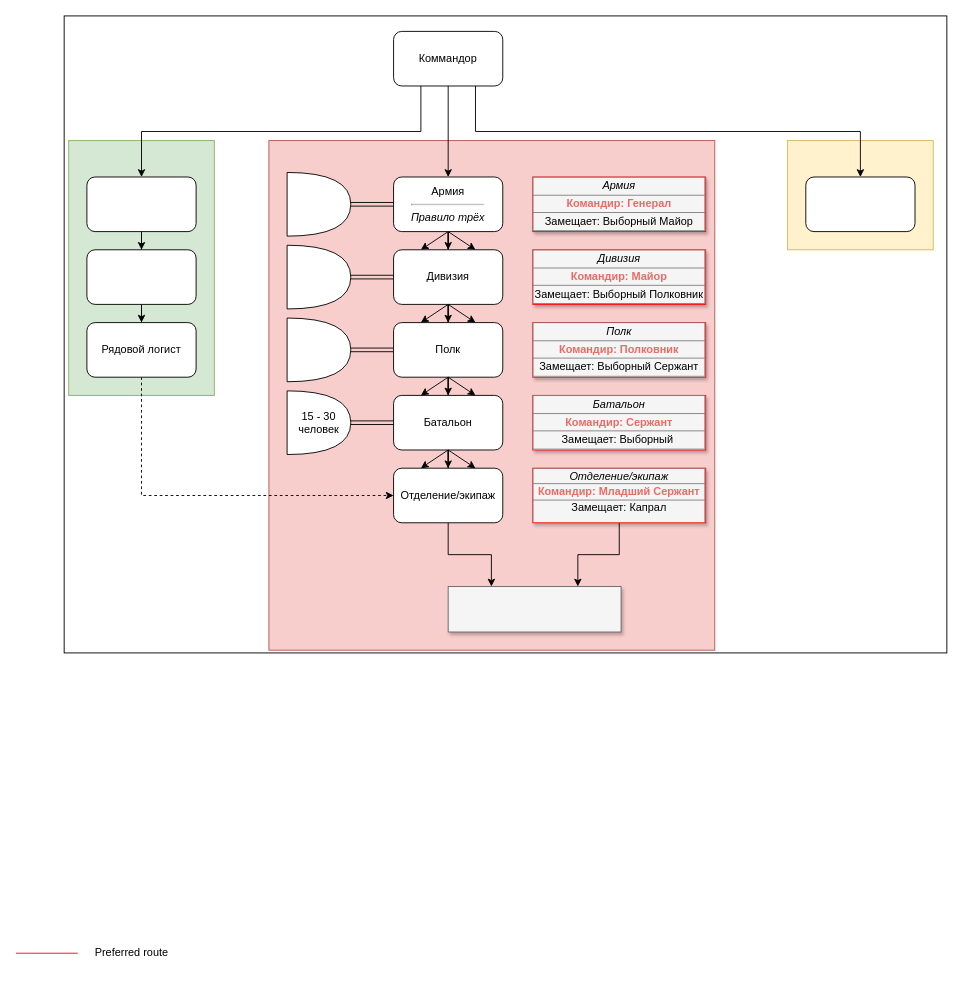
Some shapes in this 963 by 985 pixel diagram are drawn without their labels. Here are the shapes that lost their labels. From the top down, the centre of each, then its label:
At pixel 141 204: "Координатор логистики".
At pixel 318 204: "500 - 1000 человек".
At pixel 860 204: "Специальные роли".
At pixel 141 276: "Старший логист".
At pixel 318 276: "150 - 330 человек".
At pixel 318 349: "50 - 100 человек".
At pixel 535 610: "Основа армии: - Капрал (опытный солдат) - Рядовой (солдат)".
